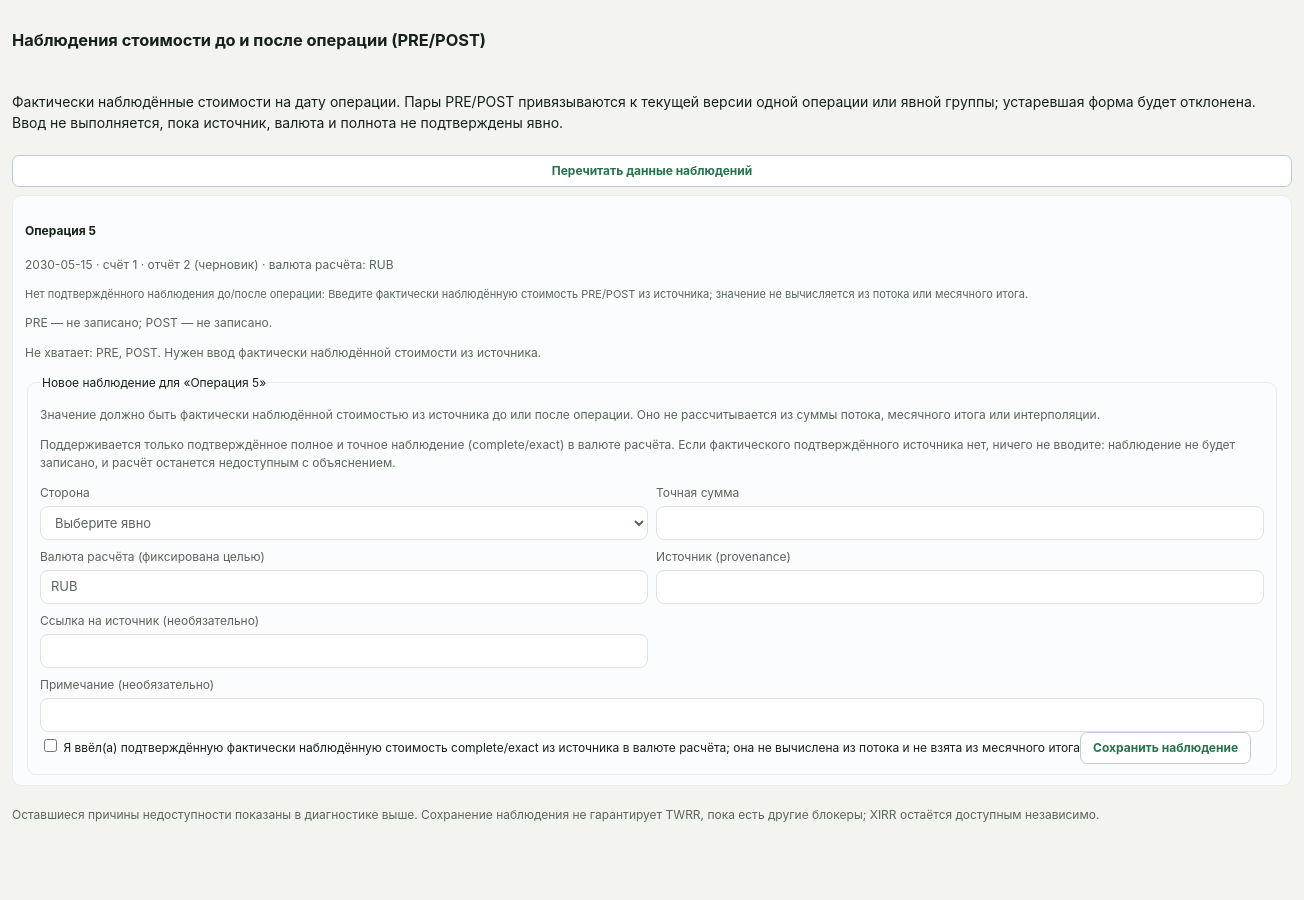
observed PRE/POST valuation capture › shows the exact missing side and publishes one observed value bound to the target
This screenshot has width=1304, height=900.
Expected: the text "PRE — не записано; POST — не записано." is shown, [25,315,272,330]
Expected: the text "Не хватает: PRE, POST" is shown, [25,345,541,360]
Select "PRE" in the dropdown named "Сторона наблюдения" at (344, 523), box [40,506,648,540]
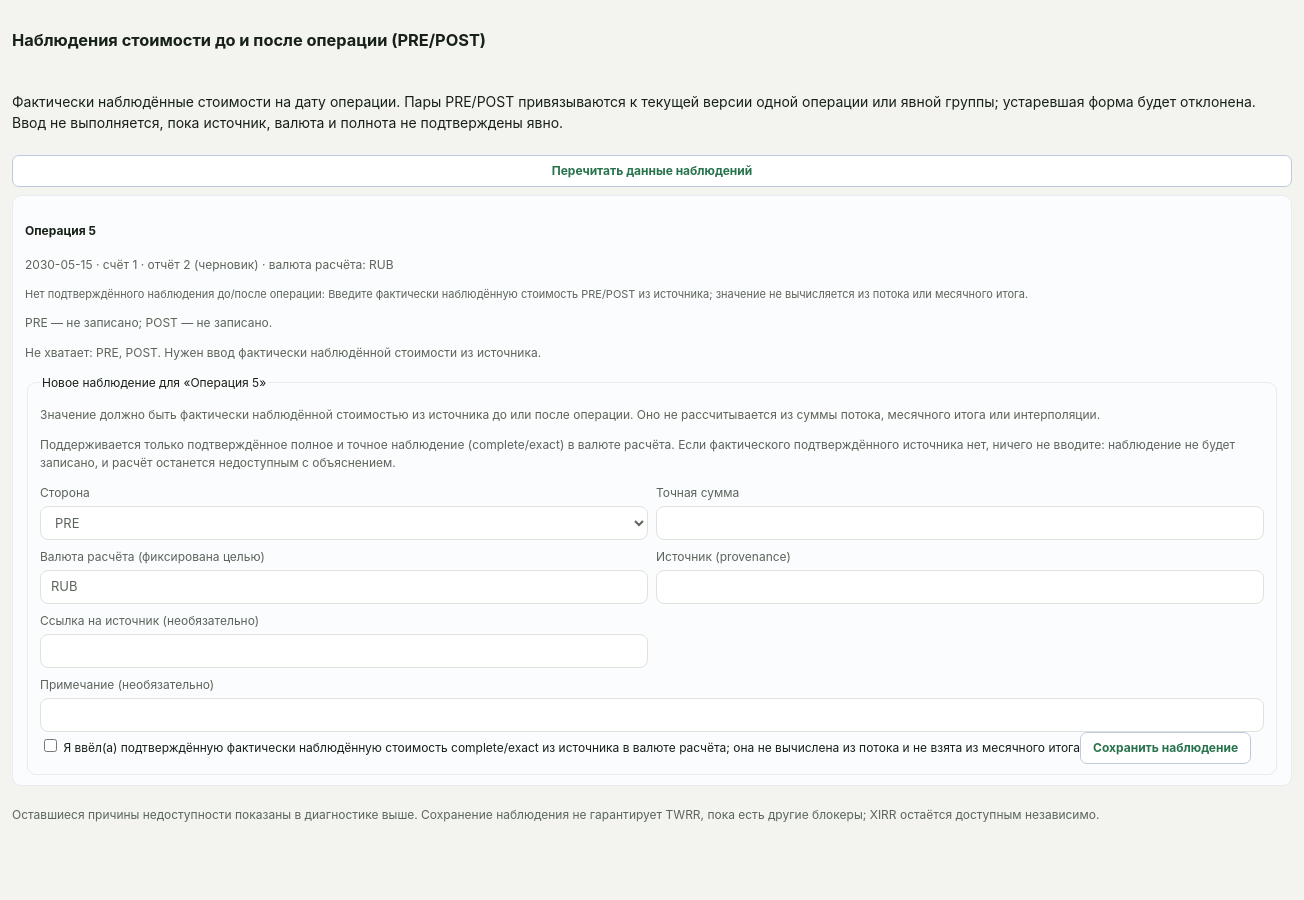
Type "1100.00" into the field named "Сумма наблюдения" at (960, 523), box [656,506,1264,540]
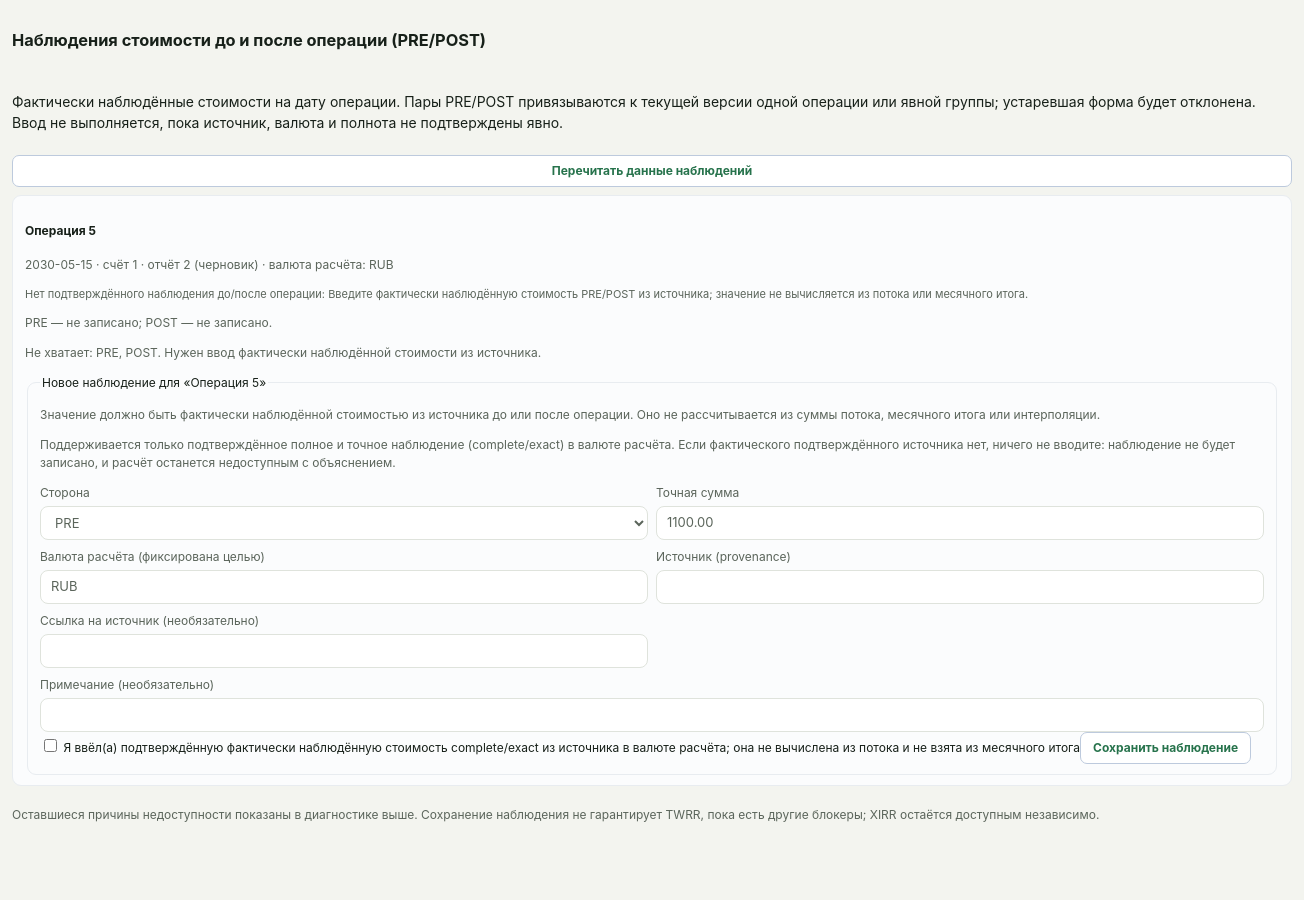
Type "owner_statement" into the field named "Источник наблюдения" at (960, 587), box [656,570,1264,604]
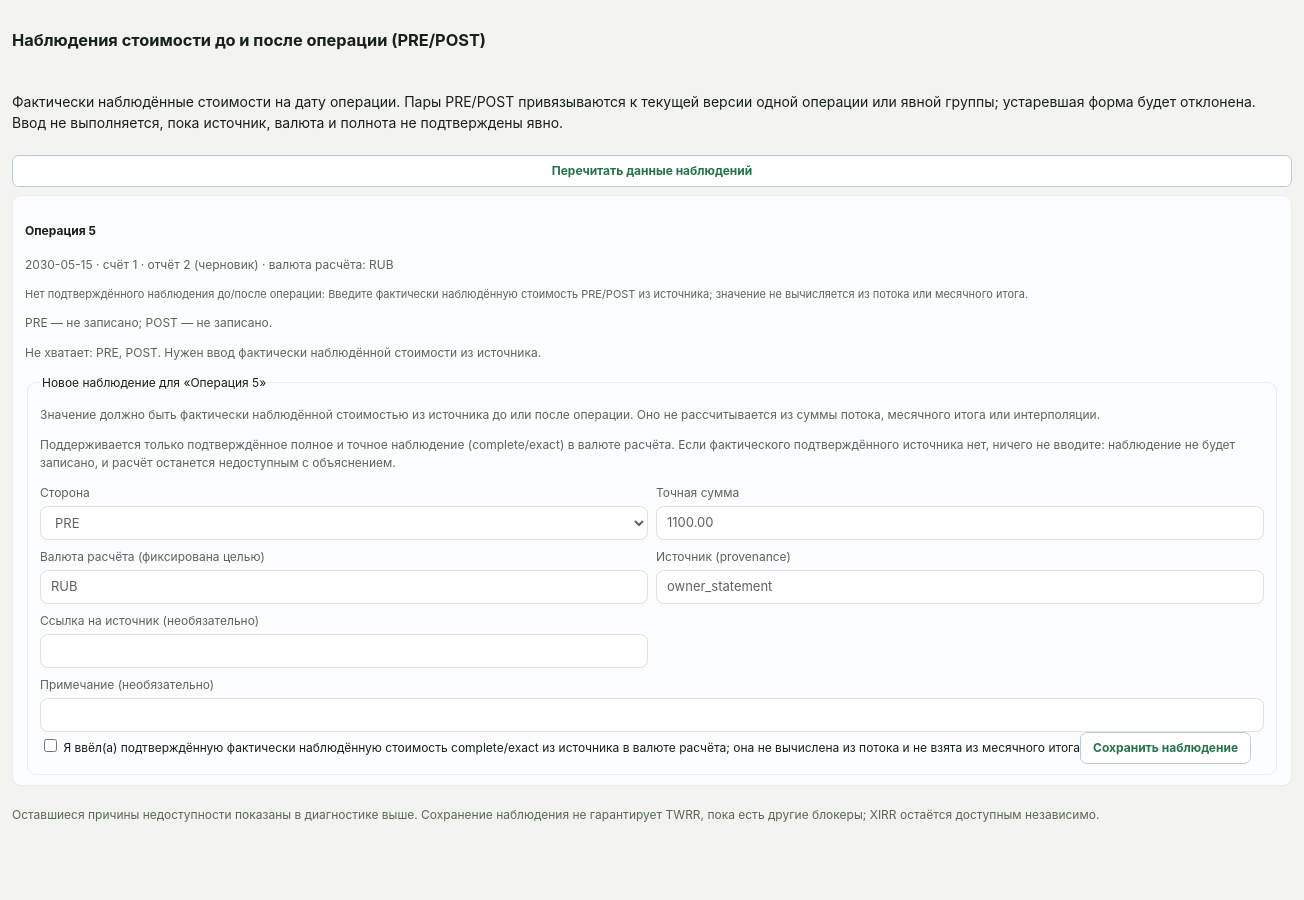
Click the checkbox labelled "Я ввёл" at (50, 745), box [44,739,57,752]
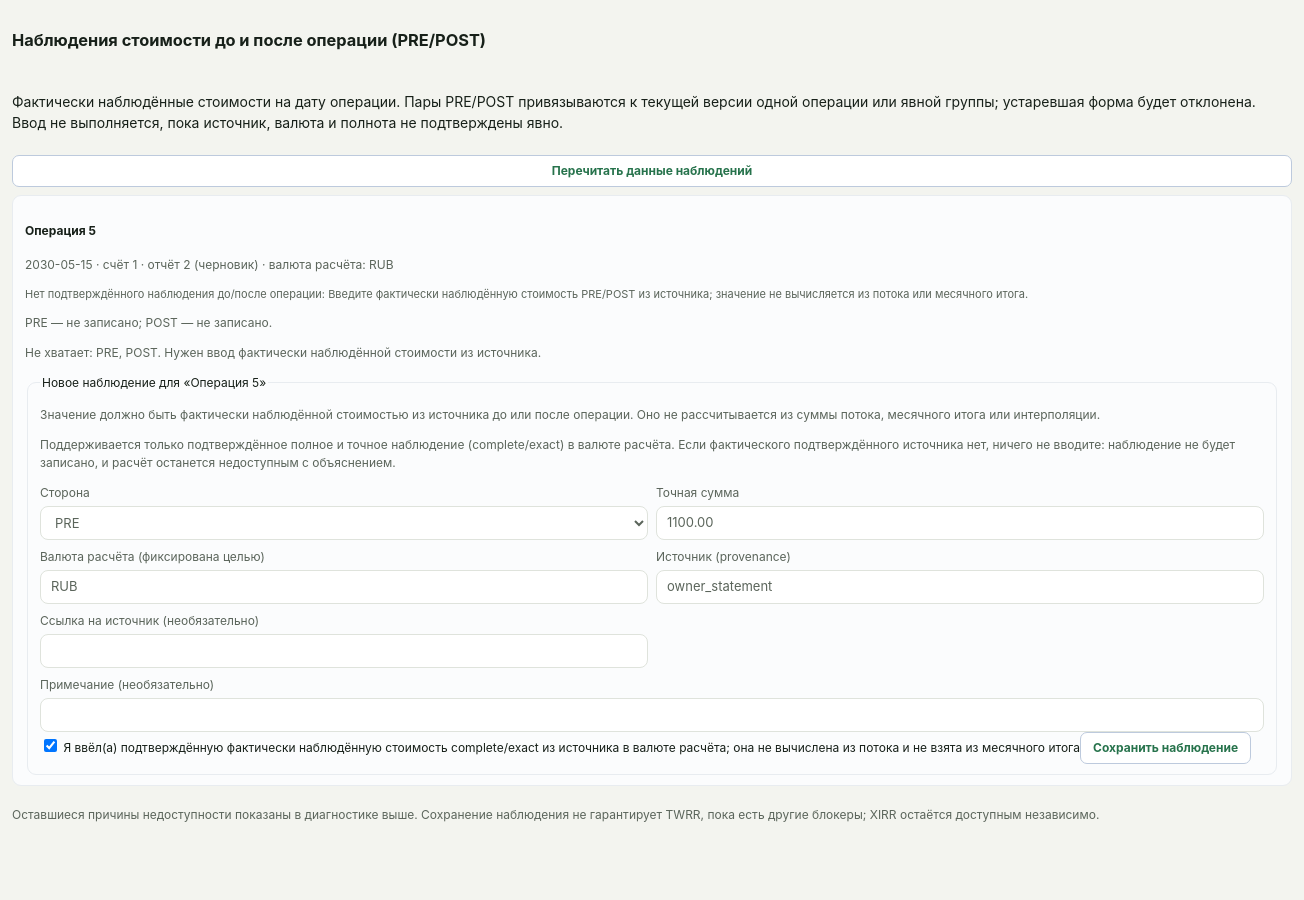
Click the button "Сохранить наблюдение" at (1166, 748), box [1080,732,1251,764]
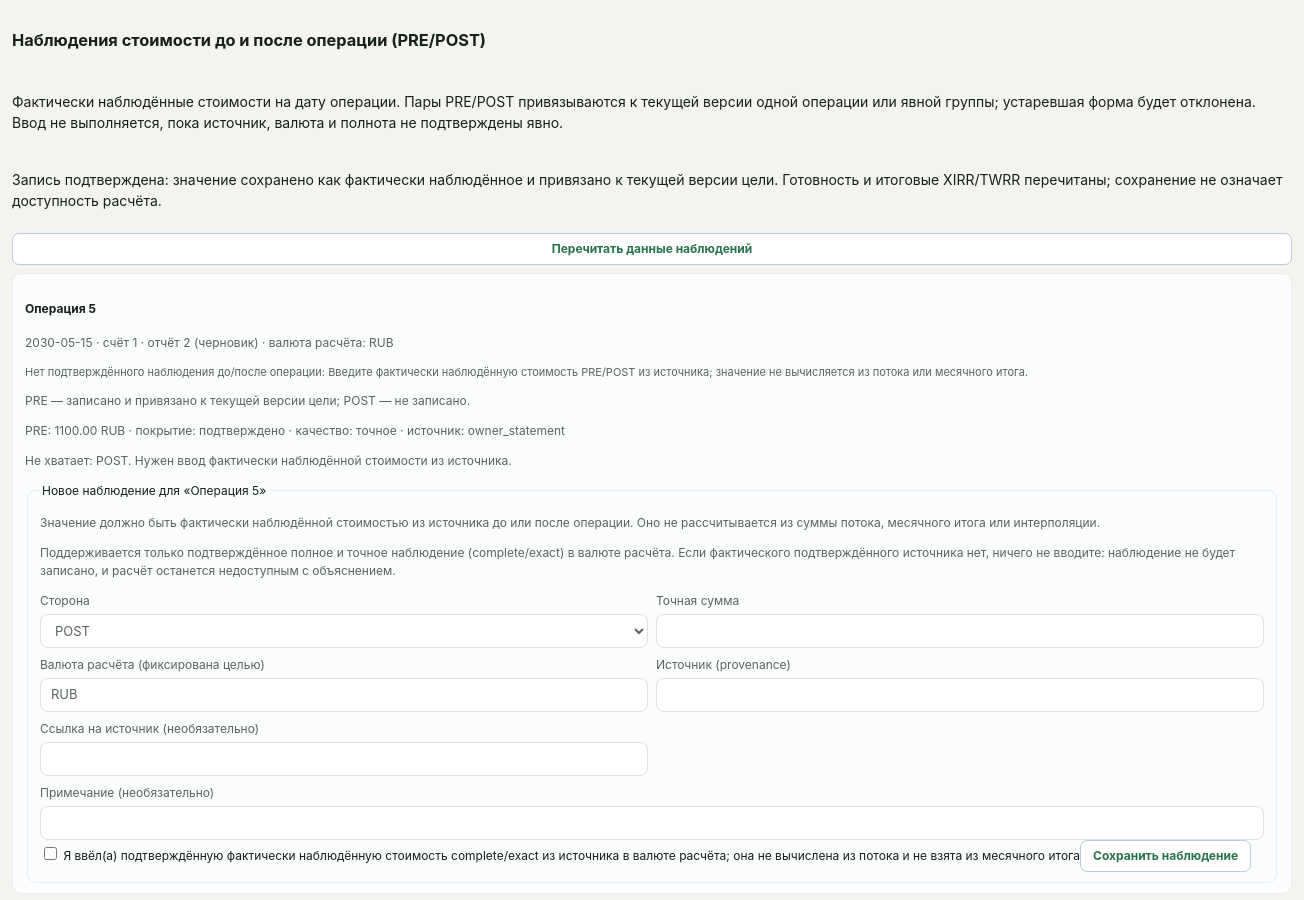
Expected: the text "Запись подтверждена" is shown, [12,171,1282,209]
Expected: the text with test id "valuation-capture-side-101" is shown, [25,423,565,438]
Expected: the text "Не хватает: POST" is shown, [25,453,512,468]
